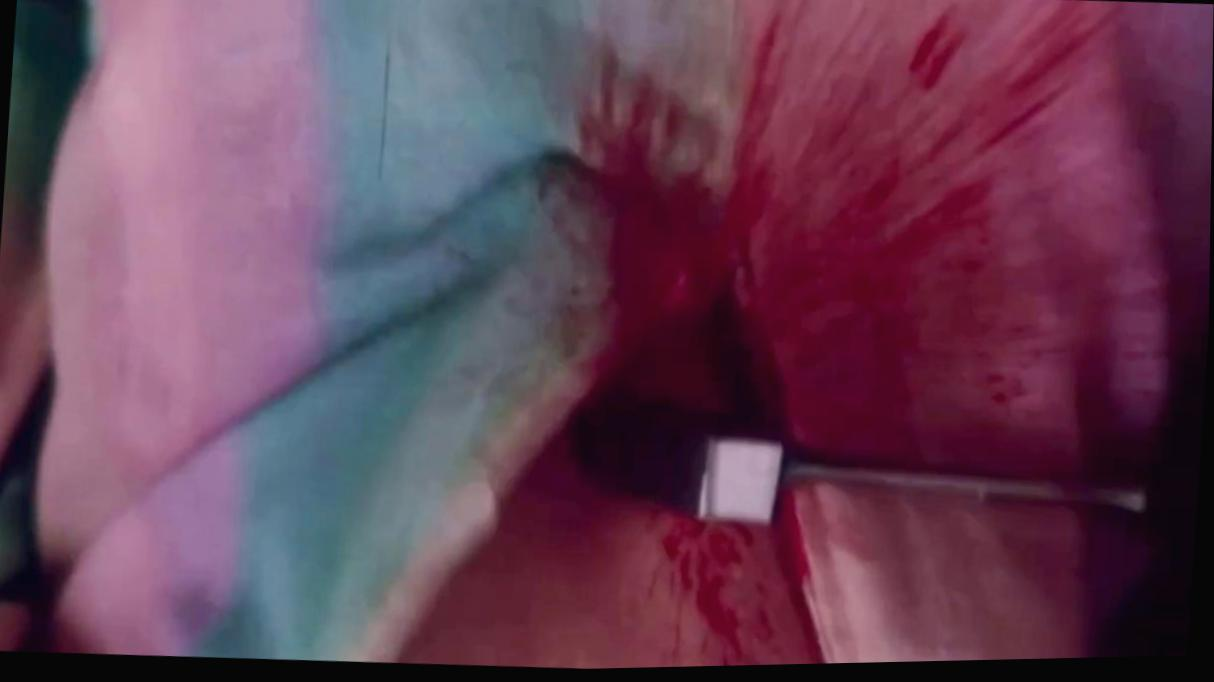Fire: (400, 0, 1169, 672)
